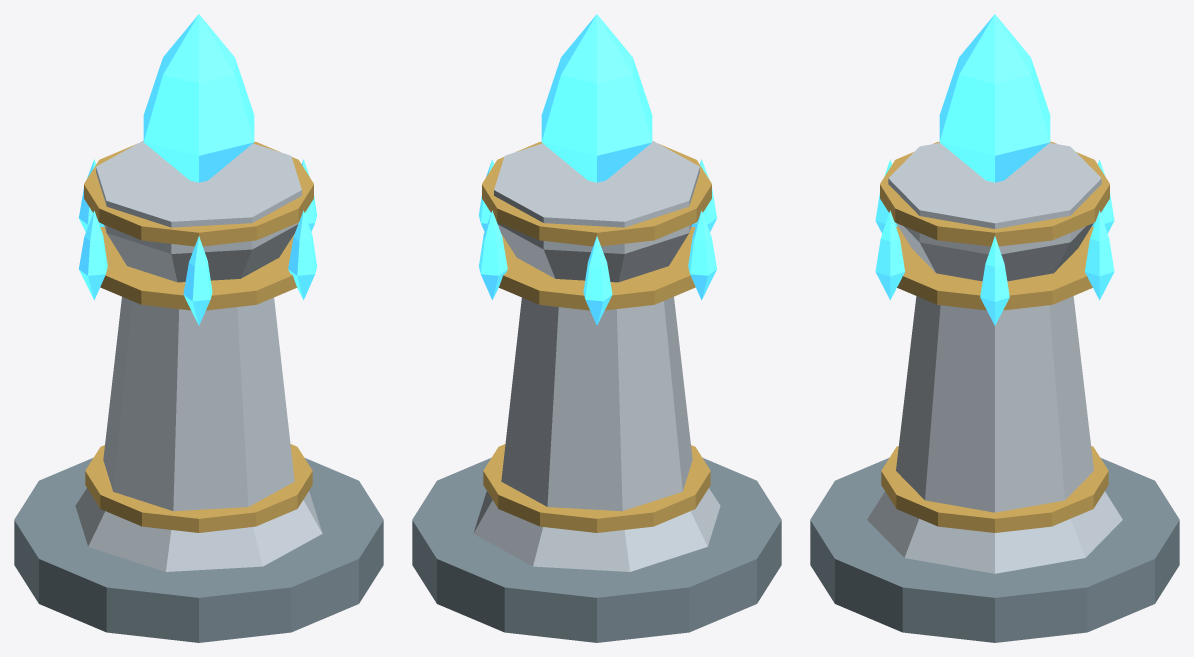
The model's file is lux_tower_candidate.glb.
The picture shows the model from 3 angles, left to right: view 1: azimuth 30°, elevation 25°; view 2: azimuth 150°, elevation 25°; view 3: azimuth 270°, elevation 25°; orthographic projection.
Parts seen in each view (by area): view 1: lux_tower; view 2: lux_tower; view 3: lux_tower.
Part boxes in pixels (box(x1,y1,x2,y2)): lux_tower: box(14, 14, 383, 642); lux_tower: box(412, 14, 781, 642); lux_tower: box(810, 14, 1179, 642).
Bounding box in the file's own units: 5.2 × 8.55 × 5.2.
